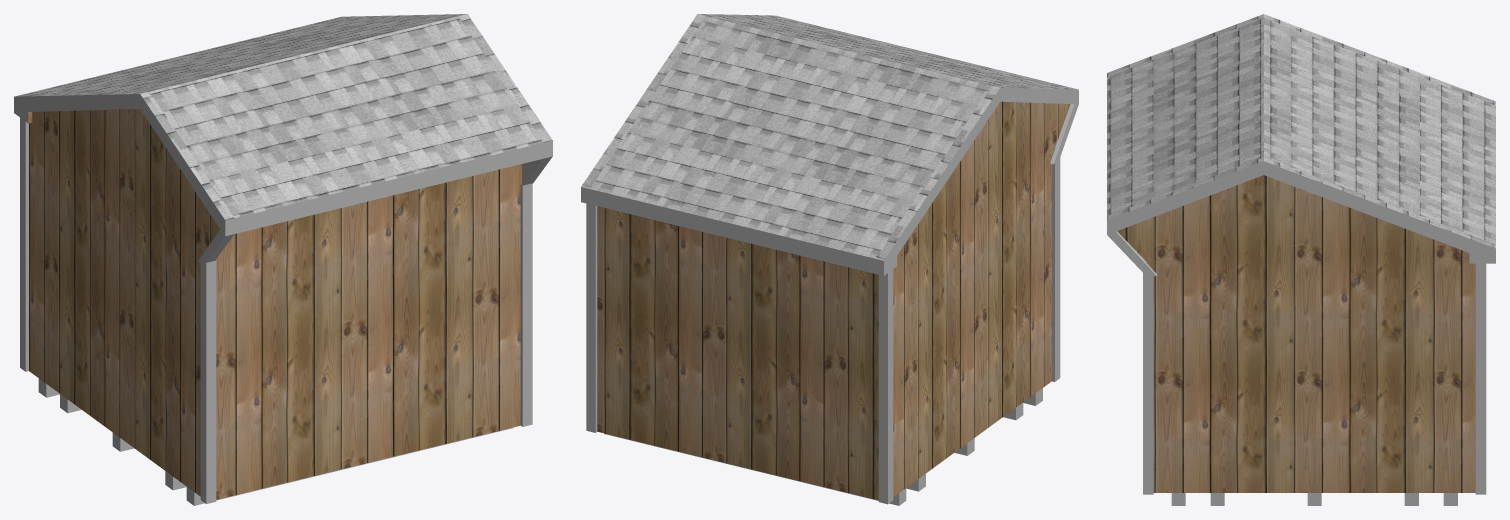
The model's file is Quaker Sheds_8x8.obj.
3 renders of one model, left to right at view 1: azimuth 30°, elevation 25°; view 2: azimuth 150°, elevation 25°; view 3: azimuth 270°, elevation 25°, orthographic. The views are drawn at different scales.
Parts seen in each view (by area): view 1: Shed, Roof, Sides, Trim, Floor; view 2: Shed, Roof, Trim, Sides, Floor; view 3: Shed, Roof, Sides, Trim, Floor.
Part boxes in pixels (x1,y1,x2,y2): Shed: (28,109,521,499); Roof: (15,14,552,220); Sides: (14,94,552,265); Trim: (20,117,532,503); Floor: (38,378,513,505); Shed: (597,101,1070,500); Roof: (581,14,1077,260); Trim: (586,157,1060,504); Sides: (581,88,1078,275); Floor: (604,388,1042,505); Shed: (1117,175,1475,492); Roof: (1107,14,1495,248); Sides: (1107,161,1495,276); Trim: (1143,263,1486,494); Floor: (1171,493,1457,505).
Size of the model in its own units: 2.5 by 2.74 by 2.79.
